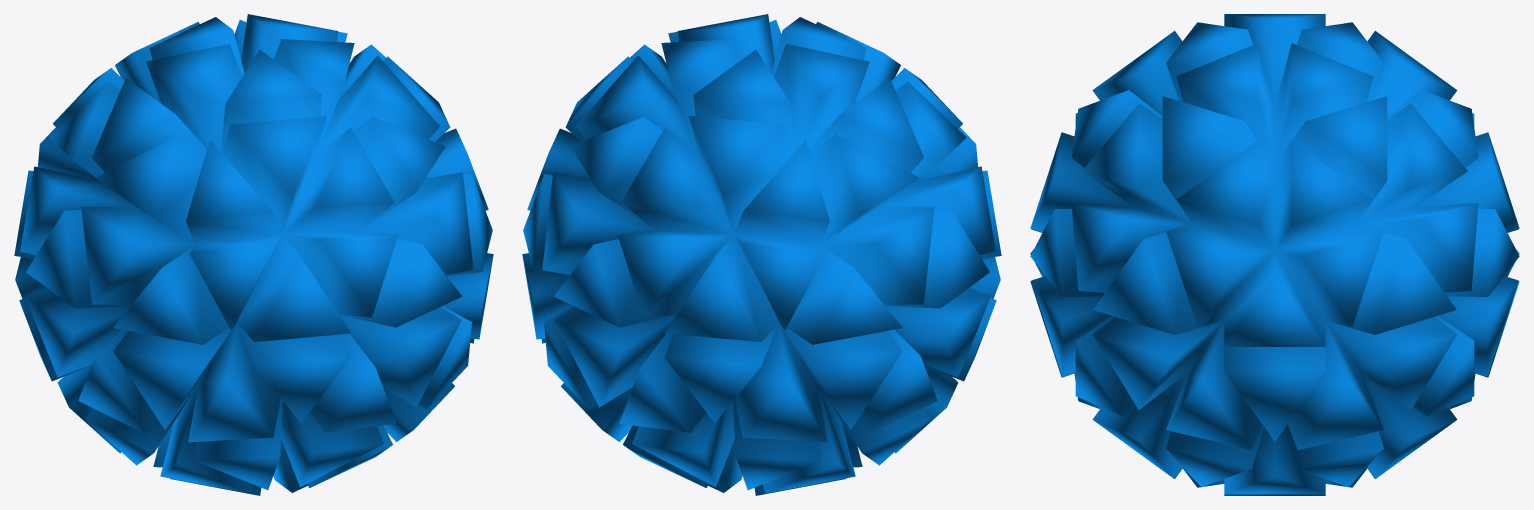
Rendered from hydrogen.gltf.
3 renders of one model, left to right at view 1: azimuth 30°, elevation 25°; view 2: azimuth 150°, elevation 25°; view 3: azimuth 270°, elevation 25°, orthographic. The views are drawn at different scales.
Visible parts, largest first — view 1: Icosphere; view 2: Icosphere; view 3: Icosphere.
Part boxes in pixels (box(x1,y1,x2,y2)): Icosphere: box(14, 14, 493, 495); Icosphere: box(522, 14, 1001, 495); Icosphere: box(1030, 14, 1519, 495).
Bounding box in the file's own units: 2.94 × 2.99 × 2.99.
